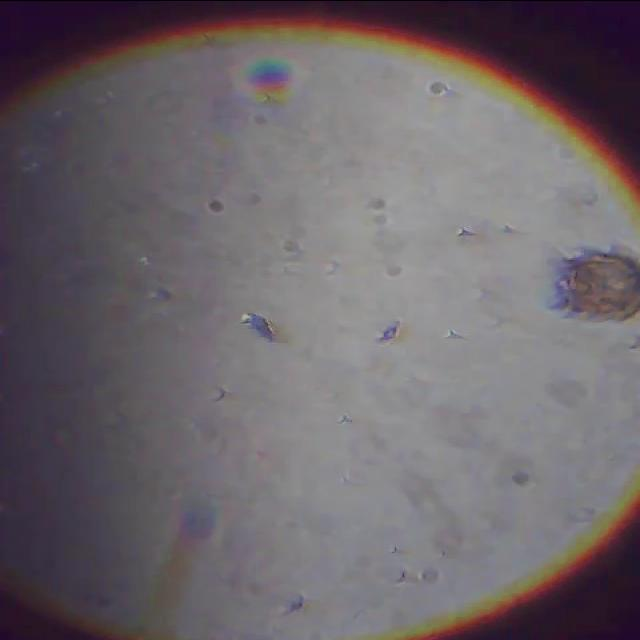alexandrium: (540, 249, 640, 325)
